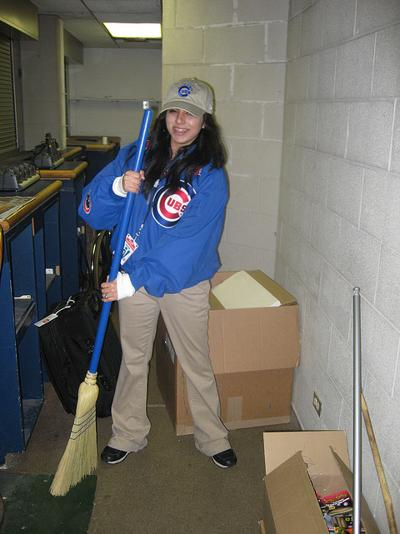person: (79, 79, 238, 471)
